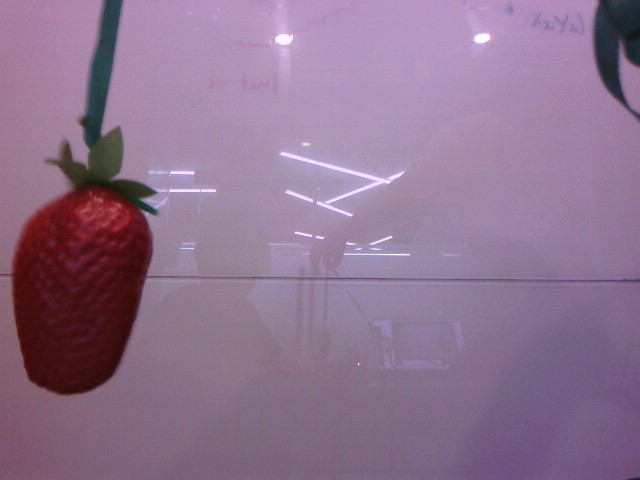strawberry: (6, 177, 160, 400)
